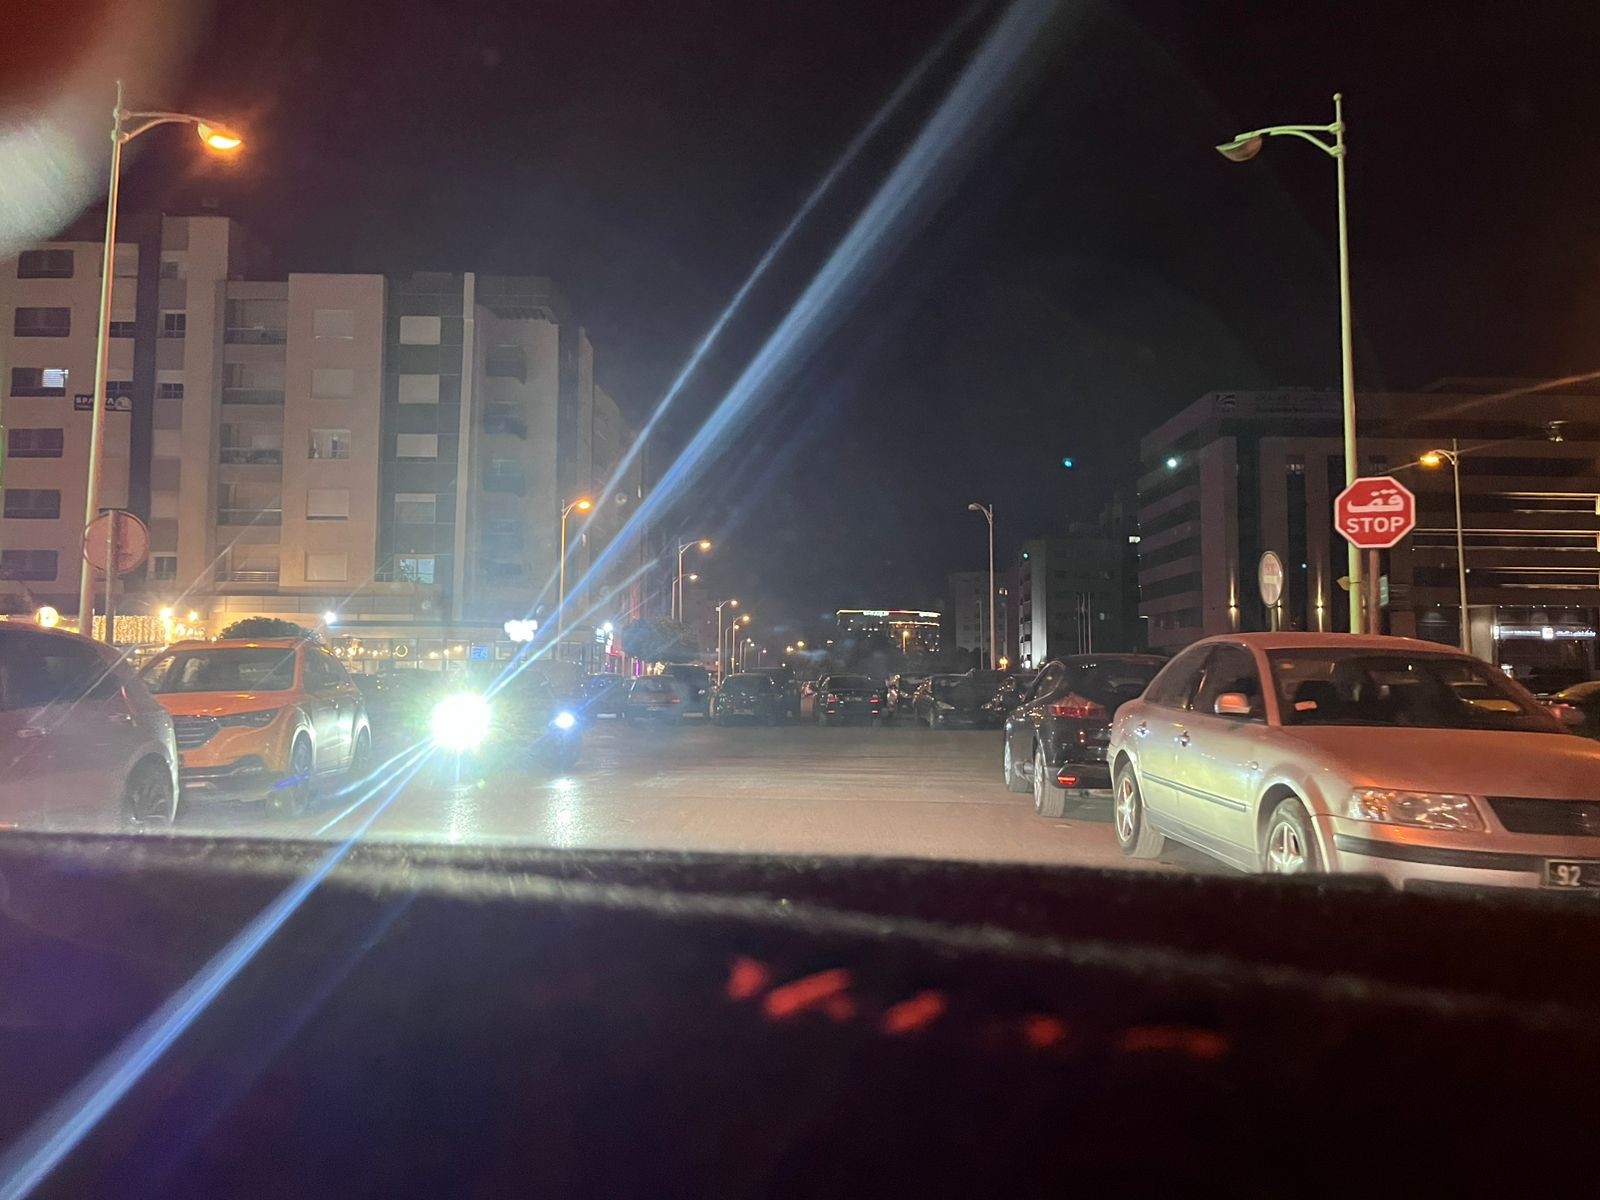Stop: (1334, 475, 1416, 548)
